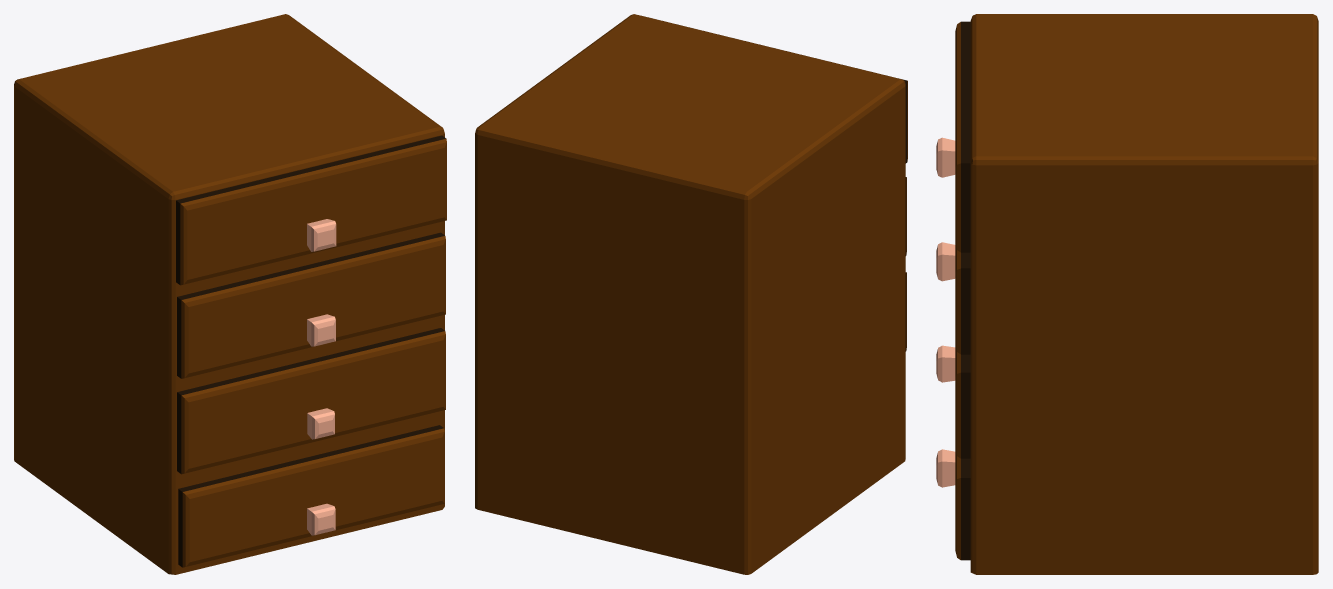
File: Nighstand.fbx
The picture shows the model from 3 angles, left to right: view 1: azimuth 30°, elevation 25°; view 2: azimuth 150°, elevation 25°; view 3: azimuth 270°, elevation 25°; orthographic projection. The views are drawn at different scales.
Visible parts, largest first — view 1: Nighstand; view 2: Nighstand; view 3: Nighstand.
Boxes of the visible parts, left/top/right/bottom form: Nighstand: left=14, top=14, right=446, bottom=574; Nighstand: left=475, top=14, right=907, bottom=574; Nighstand: left=936, top=14, right=1318, bottom=574.
Size of the model in its own units: 54.24 by 71.65 by 59.58.
